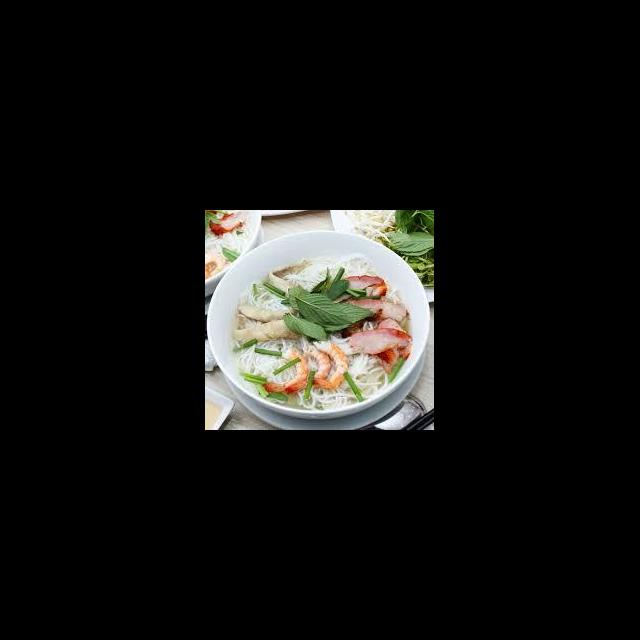bun: (235, 332, 392, 414), (278, 251, 374, 295), (240, 279, 300, 314)
ca: (230, 316, 302, 347), (264, 259, 308, 304), (236, 300, 298, 322)
thit heo quay: (376, 316, 414, 375), (322, 274, 390, 306), (346, 326, 414, 357), (338, 297, 412, 323)
tom: (260, 346, 312, 396), (309, 336, 352, 391), (300, 343, 334, 388)
